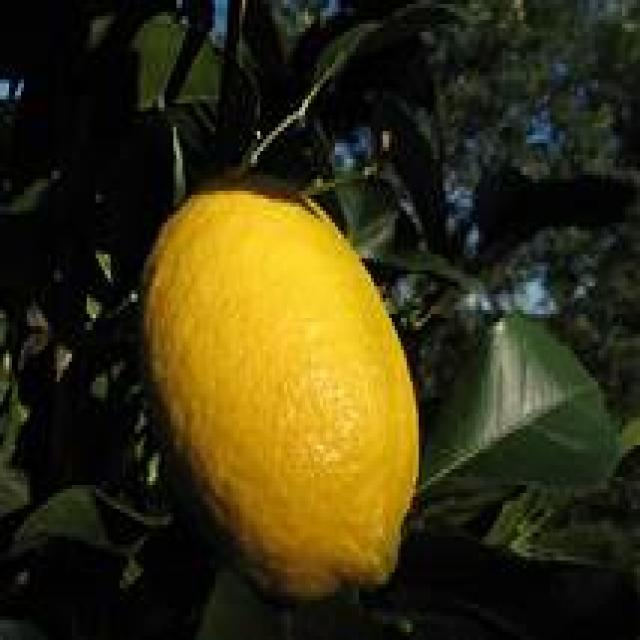Lemon: (137, 179, 424, 600)
